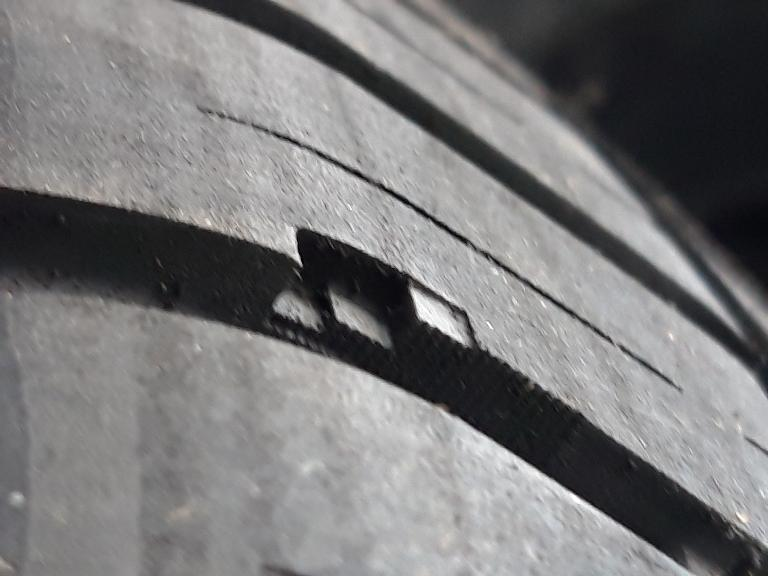temoin:50: (250, 214, 488, 413)
